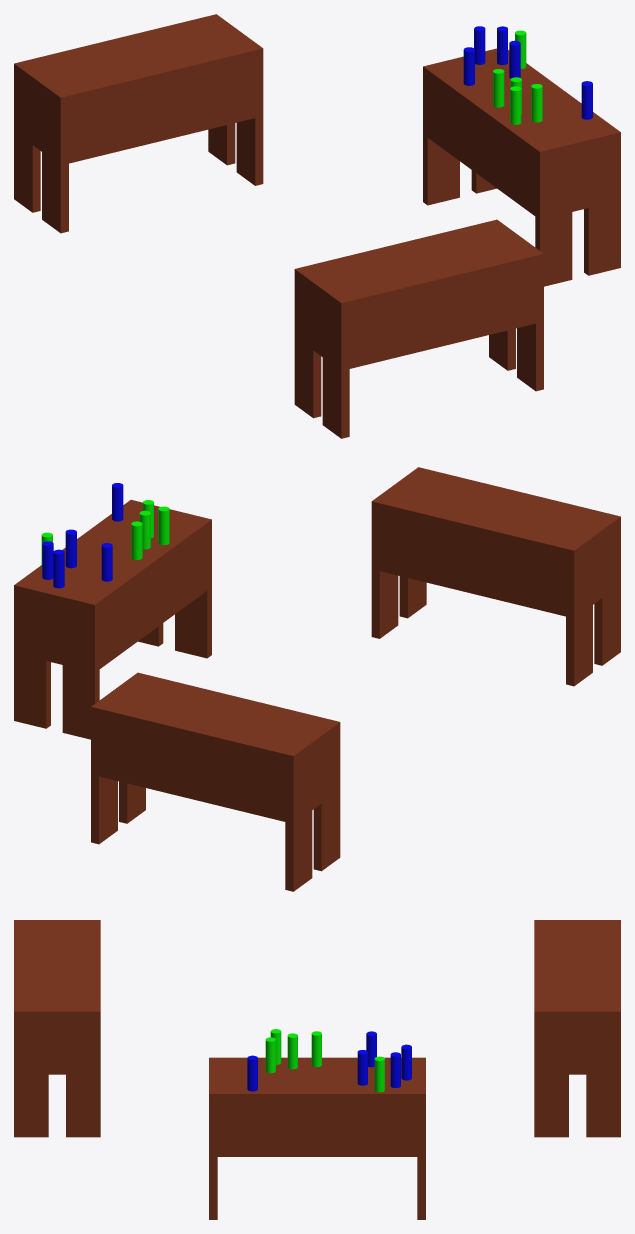
The picture shows the model from 3 angles, top to bottom: view 1: azimuth 30°, elevation 25°; view 2: azimuth 150°, elevation 25°; view 3: azimuth 270°, elevation 25°; orthographic projection. The views are drawn at different scales.
Visible parts, largest first — view 1: base (×14); view 2: base (×14); view 3: base (×9).
Boxes of the visible parts, bbox=[...] form: base (×14): bbox=[14, 14, 620, 438]; base (×14): bbox=[14, 467, 620, 891]; base (×9): bbox=[14, 920, 620, 1219].
Bounding box in the file's own units: 2.37 × 3.5 × 1.
